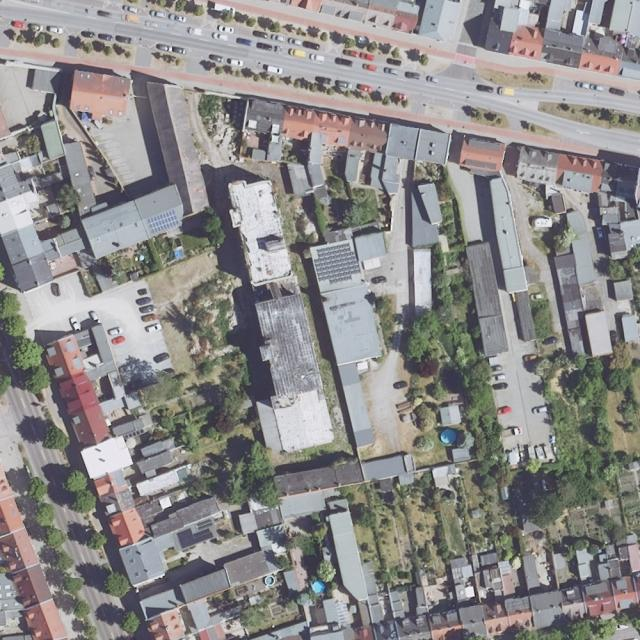PV: (315, 243, 362, 286), (147, 208, 180, 235)
